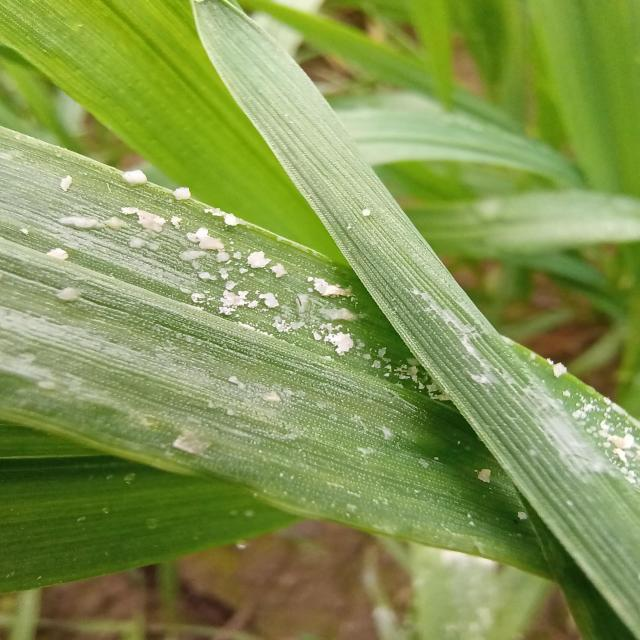Powdery Mildew: (15, 150, 640, 533)
